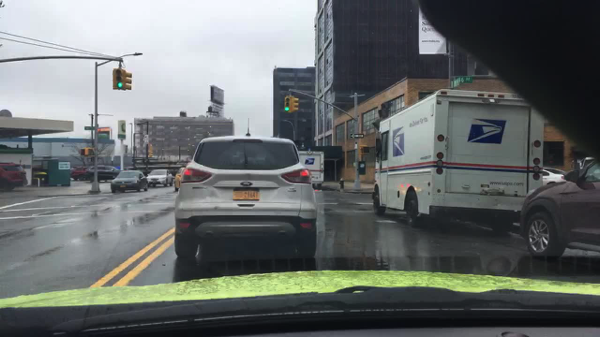car: (371, 88, 543, 232), (174, 118, 316, 257), (519, 160, 598, 258), (110, 170, 148, 192), (1, 160, 26, 192), (85, 165, 121, 181), (146, 169, 173, 186), (541, 170, 567, 187), (174, 167, 184, 191), (70, 166, 86, 179), (544, 166, 563, 175)
traffic light: (113, 68, 123, 90), (123, 70, 131, 91), (290, 96, 299, 112), (80, 147, 92, 156), (285, 96, 290, 112), (359, 146, 369, 154), (149, 144, 154, 156)
traffic sign: (349, 132, 364, 139), (457, 76, 471, 82), (450, 79, 459, 87), (85, 126, 95, 130)
truck: (298, 148, 324, 189)
